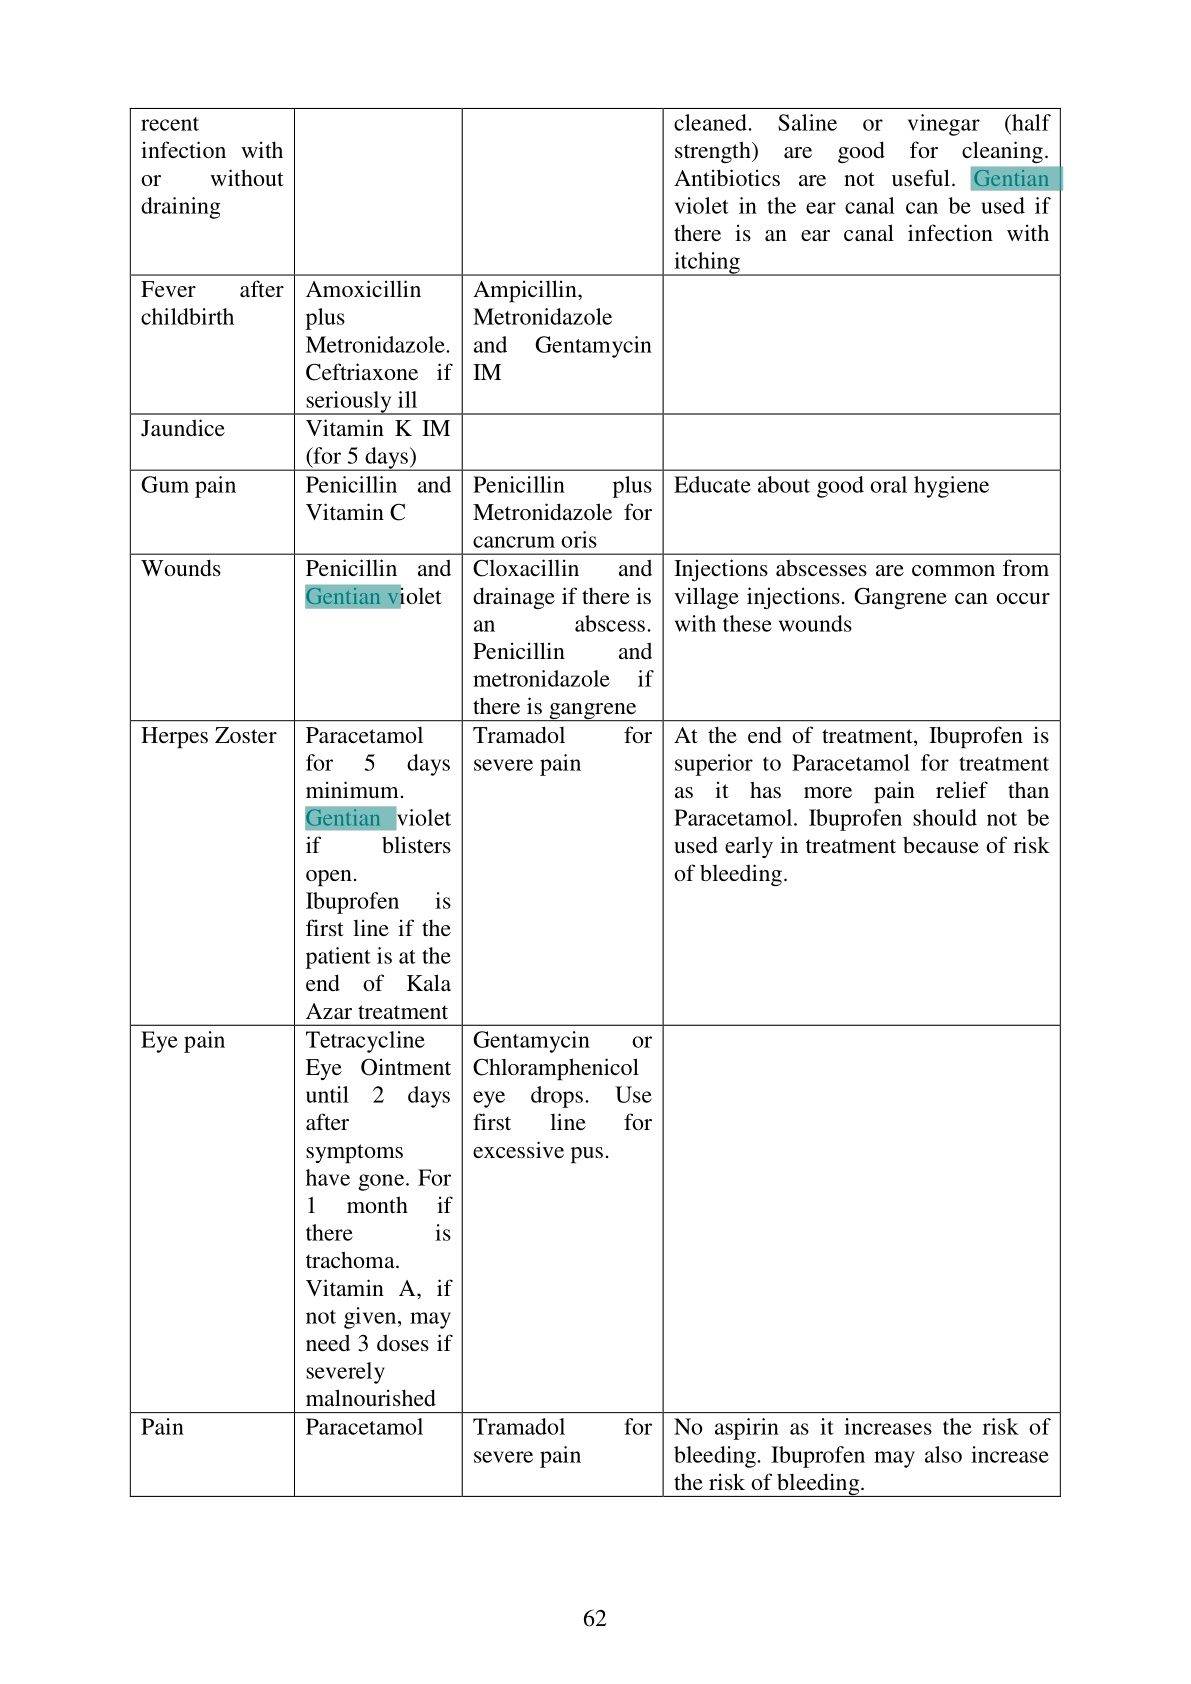full_lined: (129, 107, 1062, 1498)
